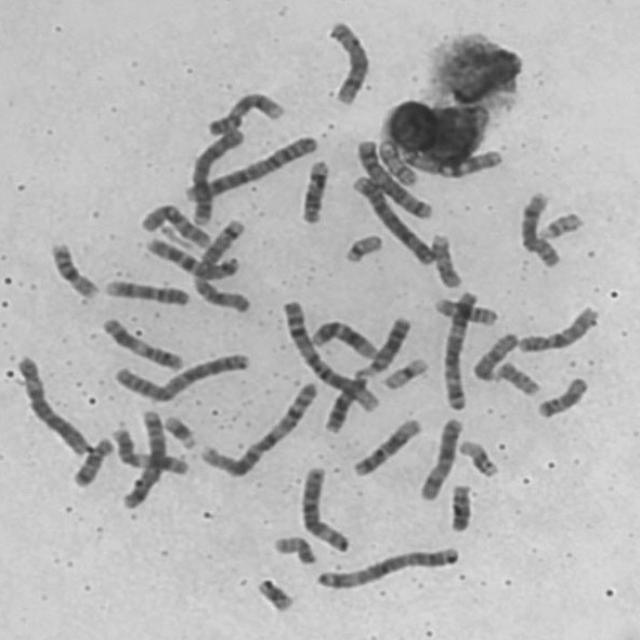A1: (196, 377, 321, 480), (276, 295, 380, 414)
A2: (181, 131, 320, 207), (110, 348, 253, 404)
A3: (312, 542, 463, 592), (437, 288, 481, 414)
B4: (348, 170, 438, 267), (185, 125, 247, 226)
B5: (352, 136, 435, 222), (117, 407, 168, 511)
C10: (514, 302, 604, 354), (136, 200, 214, 252)
C11: (96, 314, 188, 372), (107, 424, 192, 476)
C12: (349, 414, 423, 478), (306, 316, 379, 362)
C6: (12, 352, 92, 457), (297, 462, 352, 555)
C7: (400, 136, 511, 180), (141, 235, 240, 280)
C8: (323, 17, 371, 108), (517, 188, 562, 268)
C9: (202, 89, 287, 137), (100, 276, 192, 308)
D13: (320, 365, 372, 435), (362, 312, 412, 377)
D14: (191, 220, 250, 278), (297, 157, 332, 226)
D15: (192, 265, 256, 317), (468, 329, 520, 383)
E16: (46, 238, 100, 300), (430, 294, 500, 327)
E17: (374, 136, 419, 188), (426, 230, 464, 289)
E18: (533, 373, 591, 421), (68, 434, 116, 489)
F19: (455, 436, 501, 480), (379, 354, 430, 391)
F20: (492, 358, 542, 398), (268, 532, 318, 566)
G21: (252, 575, 296, 614), (159, 412, 199, 449)
G22: (536, 209, 586, 241), (340, 231, 384, 265)
X: (414, 413, 464, 502)
Y: (448, 482, 476, 532)
